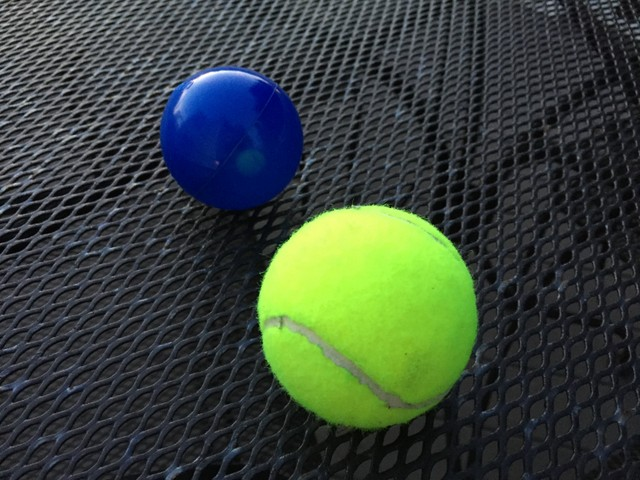Ball: (159, 67, 304, 207)
